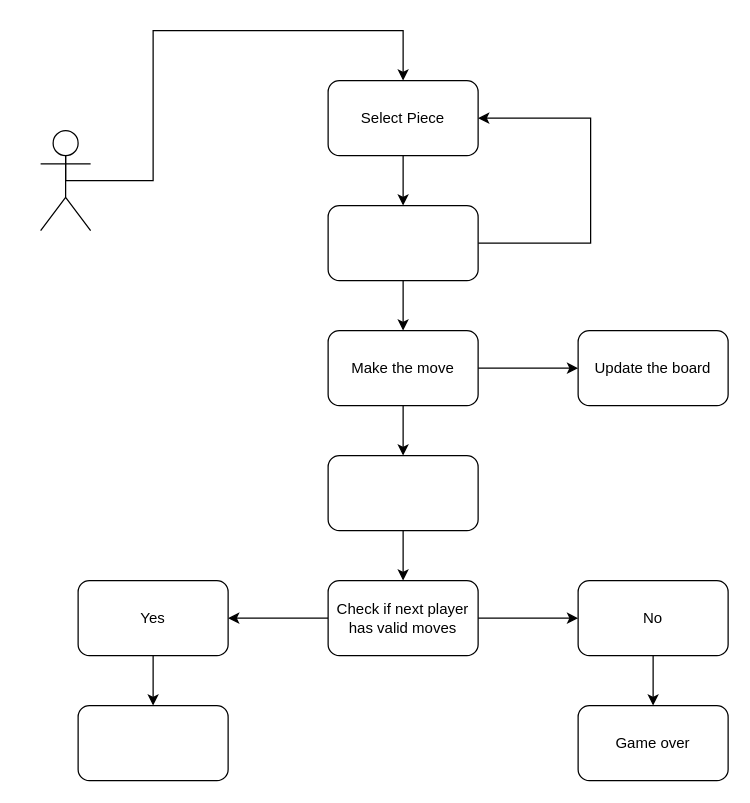
Some shapes in this 750 by 803 pixel diagram are drawn without their labels. Here are the shapes that lost their labels. From the top down, the box of each, then its label:
(39, 129, 91, 231): Active Player
(327, 204, 478, 281): Check if move is legal
(327, 454, 478, 531): Check for Checkmate
(77, 704, 228, 781): Next turn
